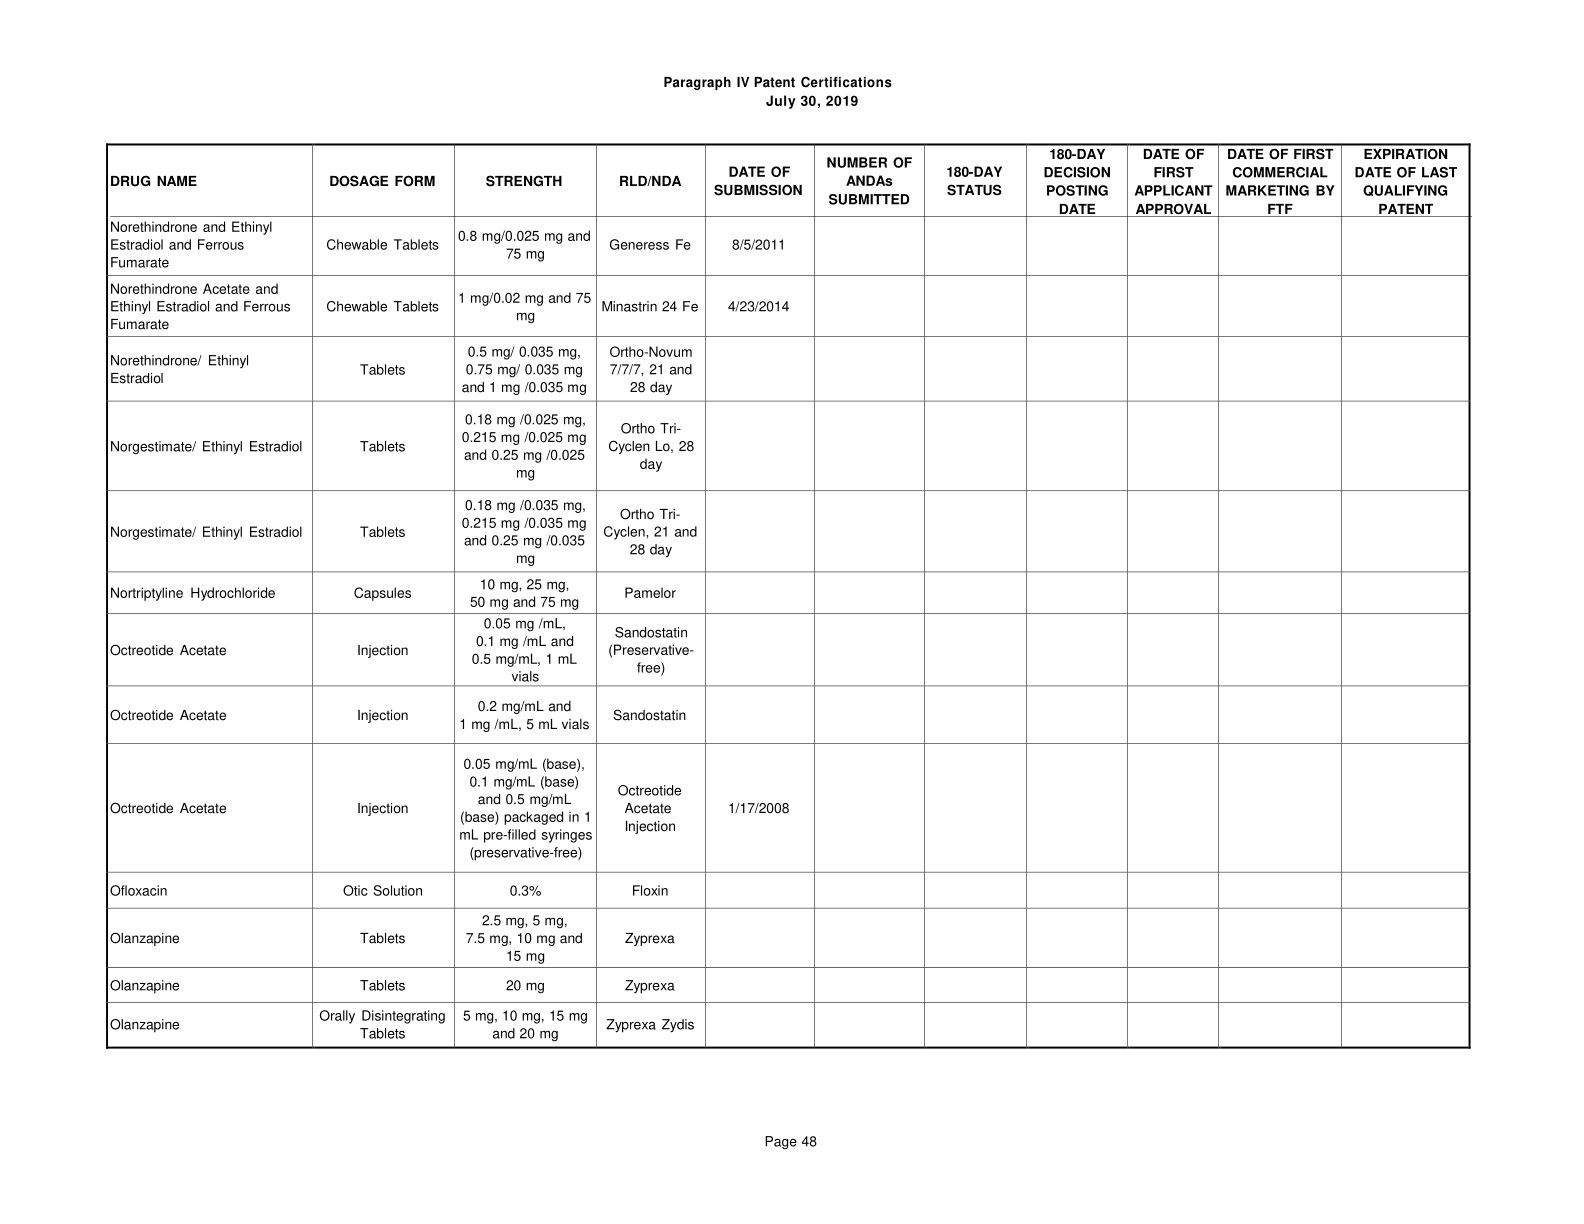full_lined: (105, 141, 1471, 1049)
